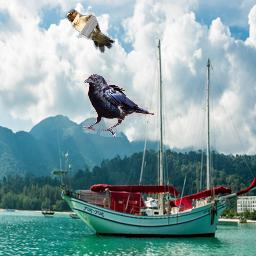Crow: (82, 74, 154, 137)
Swallow: (65, 9, 115, 53)
